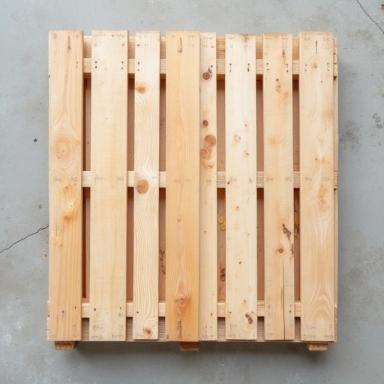pallet: (46, 29, 338, 351)
